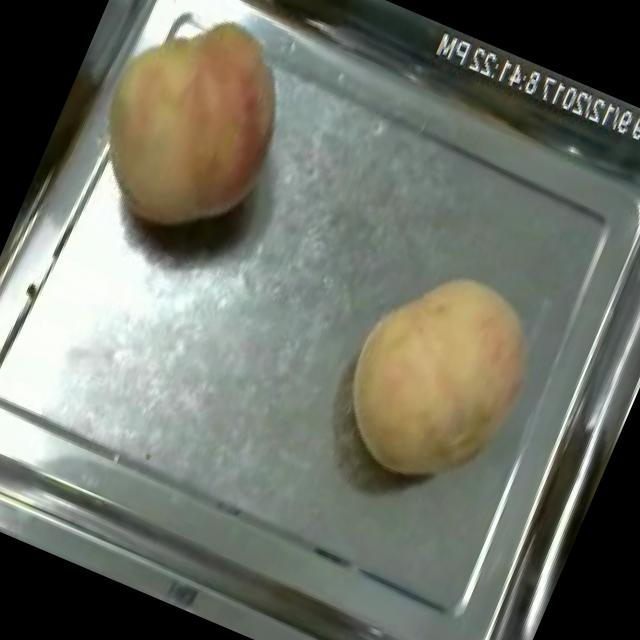Fruit: (49, 0, 322, 268), (309, 237, 568, 516)
